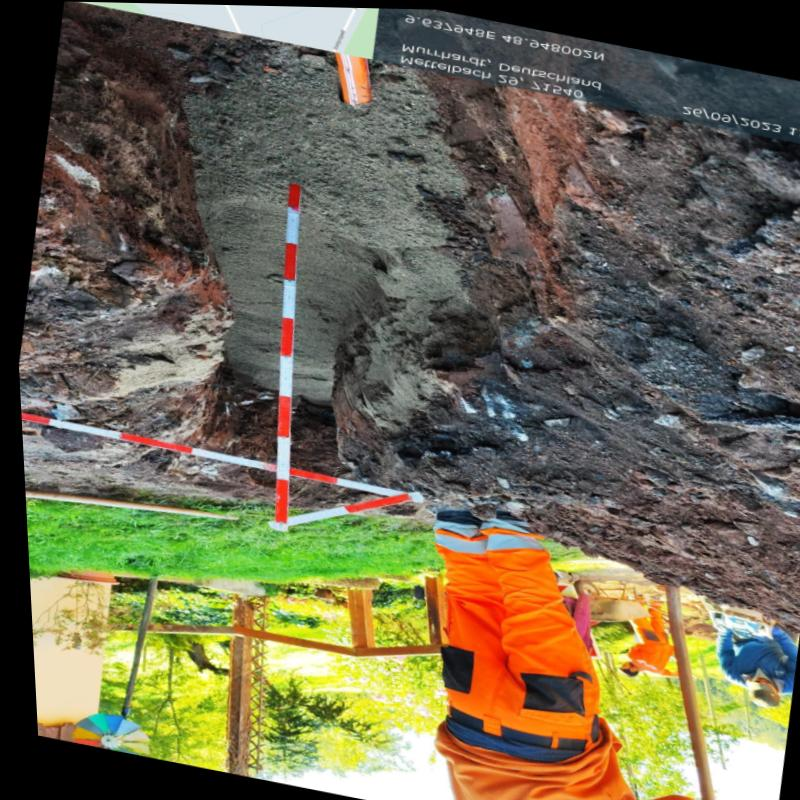Orang-Speednetrohrchen: (336, 52, 369, 104)
